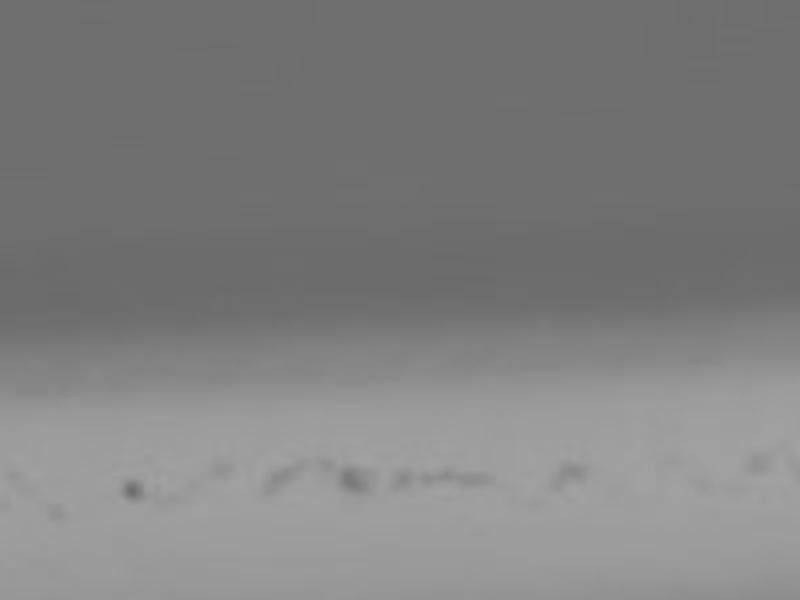defect: (261, 458, 311, 494), (337, 463, 377, 503), (742, 445, 776, 475), (454, 469, 496, 490), (688, 467, 715, 499), (561, 455, 592, 479), (118, 477, 145, 504), (212, 455, 236, 480), (387, 469, 413, 491), (525, 489, 553, 509), (43, 502, 64, 524), (157, 488, 180, 507), (417, 468, 437, 489), (311, 452, 333, 467), (549, 472, 568, 489), (437, 462, 452, 475)
